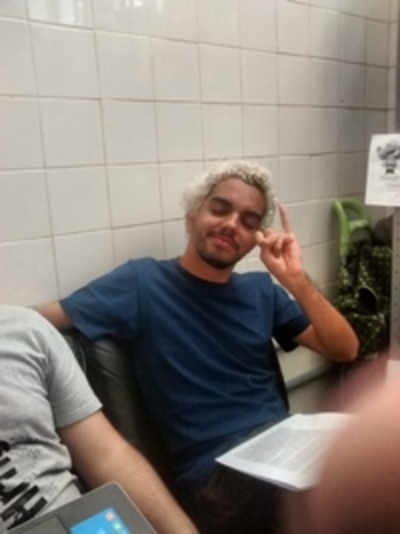closedhandfront: (249, 232, 312, 284)
mindinho: (275, 197, 298, 233)
